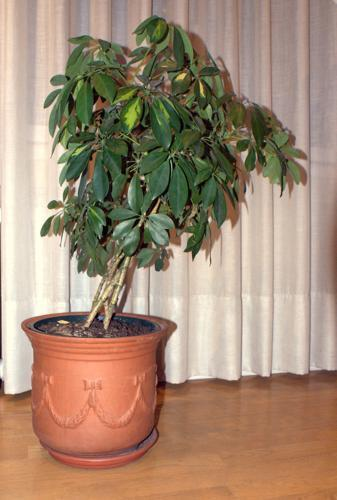Matera: (13, 9, 309, 468)
